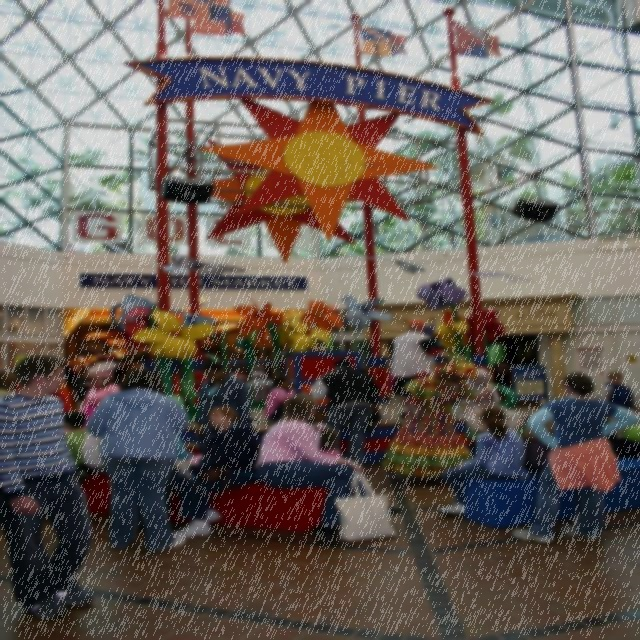pessoa: (0, 351, 102, 624), (248, 390, 408, 550), (506, 370, 640, 546), (78, 364, 192, 556), (380, 360, 480, 486), (172, 404, 262, 540), (101, 405, 193, 532), (432, 403, 528, 520), (386, 316, 471, 421), (308, 357, 380, 469), (192, 360, 253, 464), (450, 366, 527, 433), (330, 364, 386, 437), (76, 360, 120, 420), (61, 409, 95, 478), (520, 417, 557, 477), (604, 400, 639, 460), (225, 357, 272, 400), (262, 376, 296, 424), (600, 370, 637, 410), (69, 368, 95, 411), (0, 367, 17, 400)
